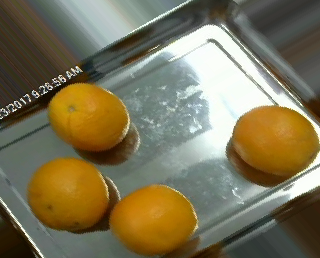Orange: (107, 182, 198, 256), (232, 105, 320, 178), (28, 157, 110, 233), (45, 82, 130, 152)
